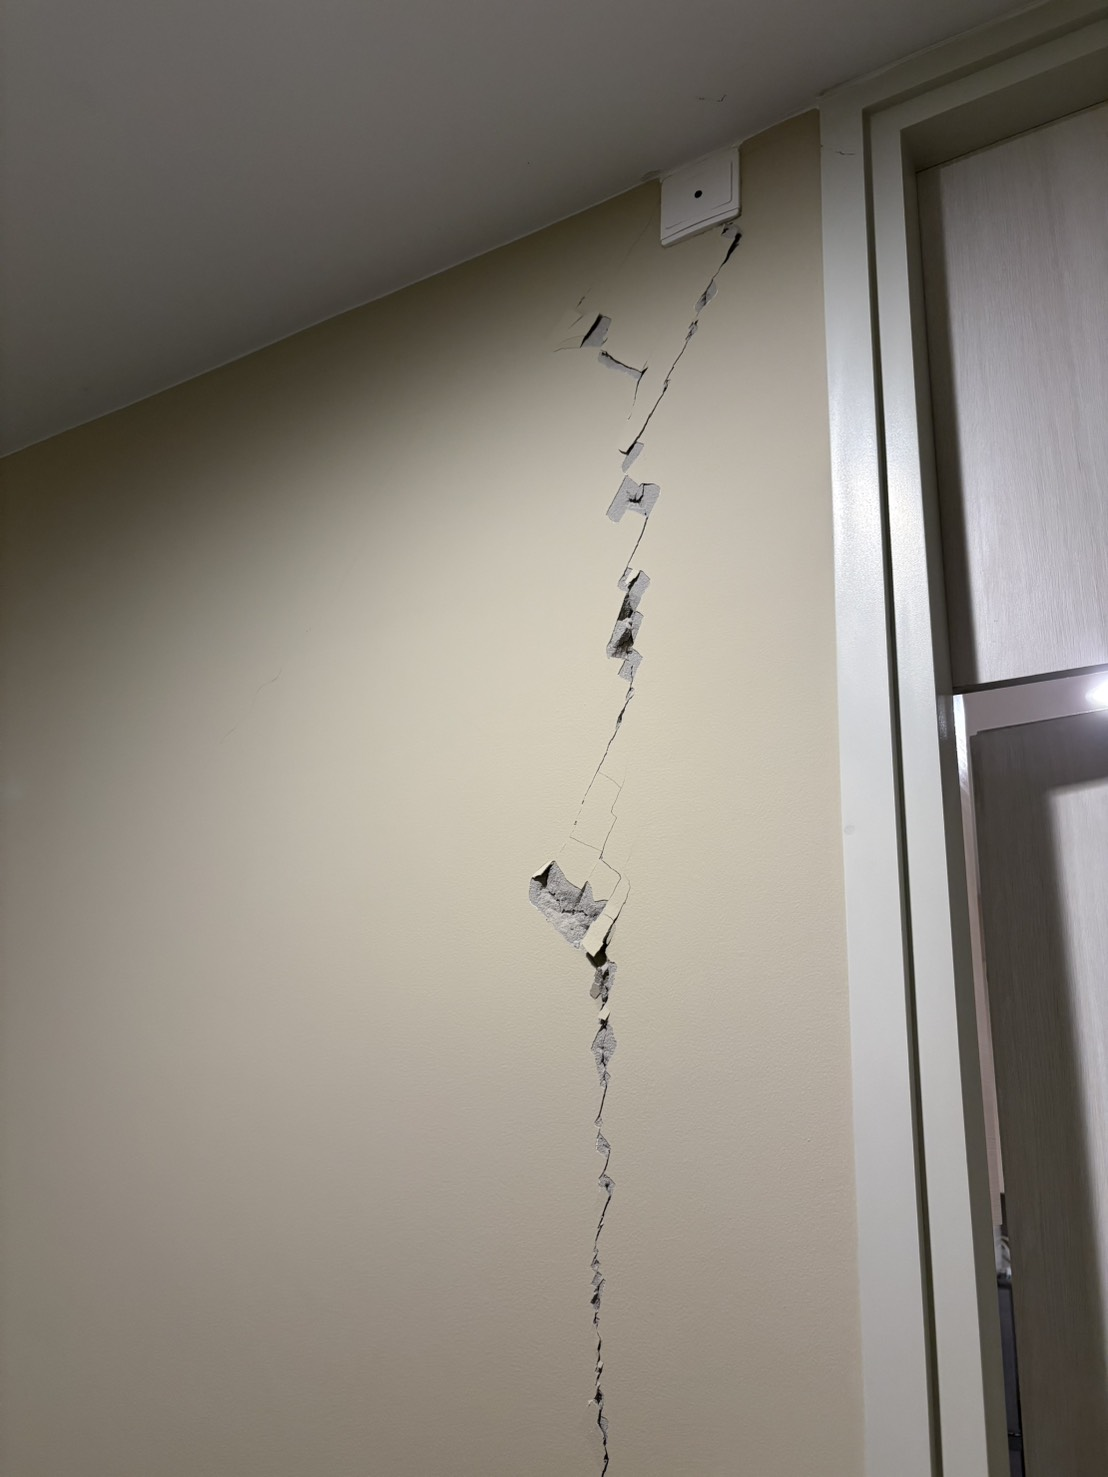Low: (500, 230, 816, 1477)
